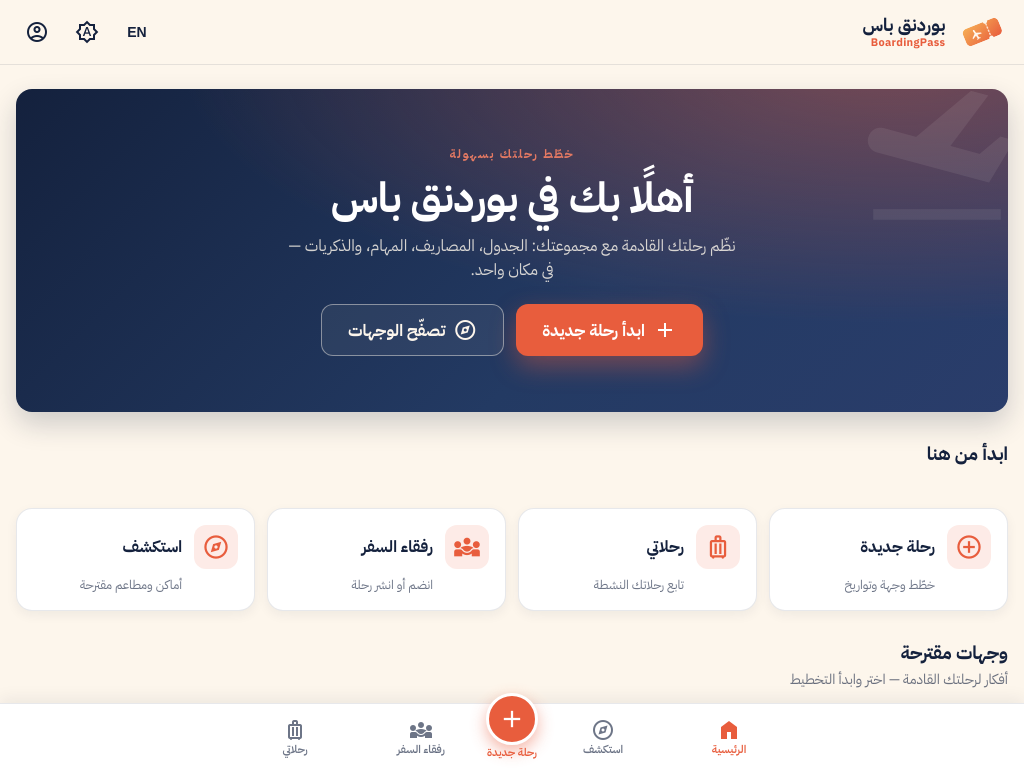
Test case: US-001 Authentication › routes a NEW email to the registration step
The width and height of the screenshot is (1024, 768).
Click the button named "الحساب / تسجيل الدخول".
click(37, 32)  # box [16,11,58,53]
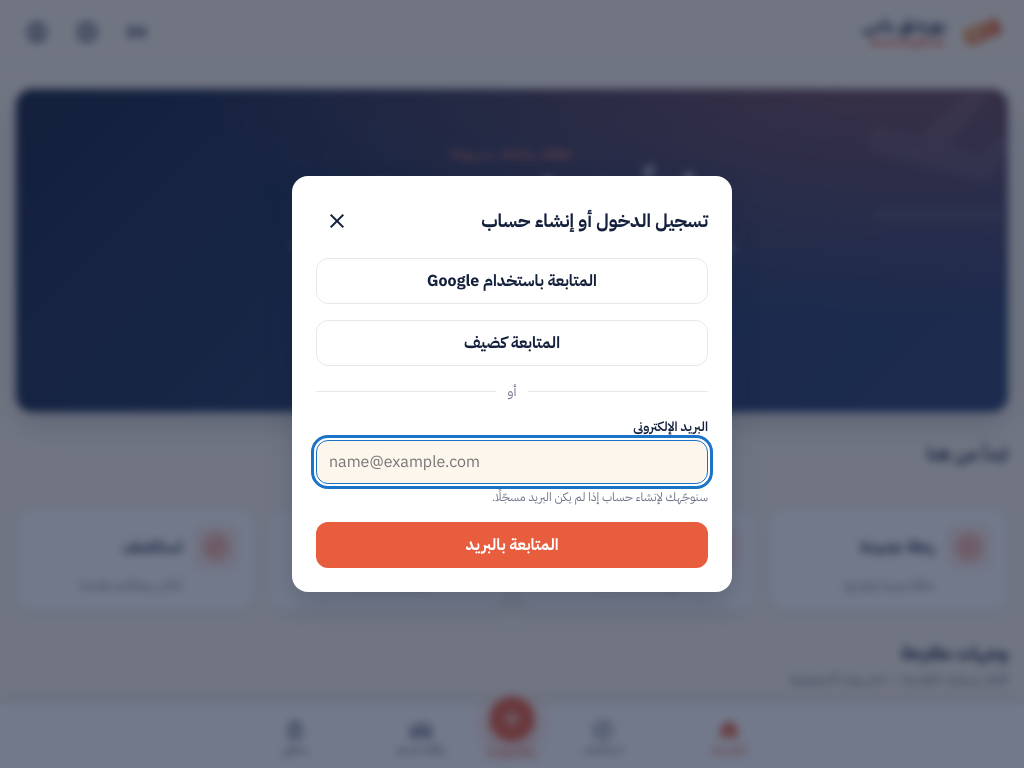
Type "new.person@example.com" into the field labelled "البريد الإلكتروني".
click(512, 462); type("new.person@example.com")  # box [316,440,708,484]
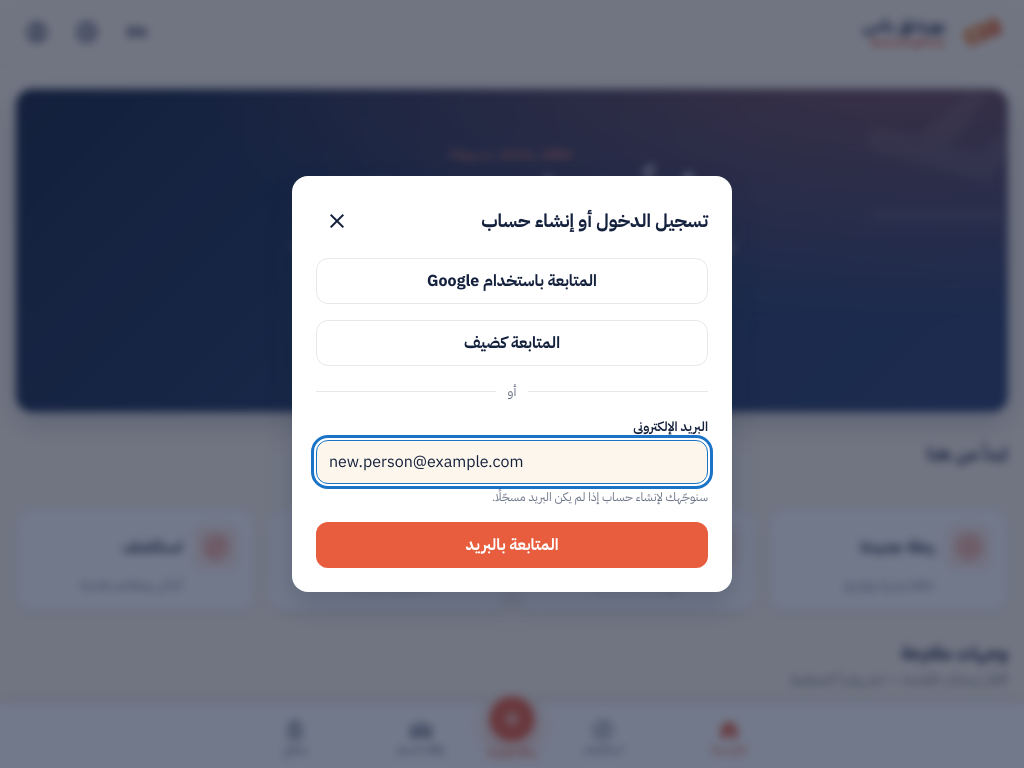
Click the button "المتابعة بالبريد".
click(512, 545)  # box [316,522,708,568]
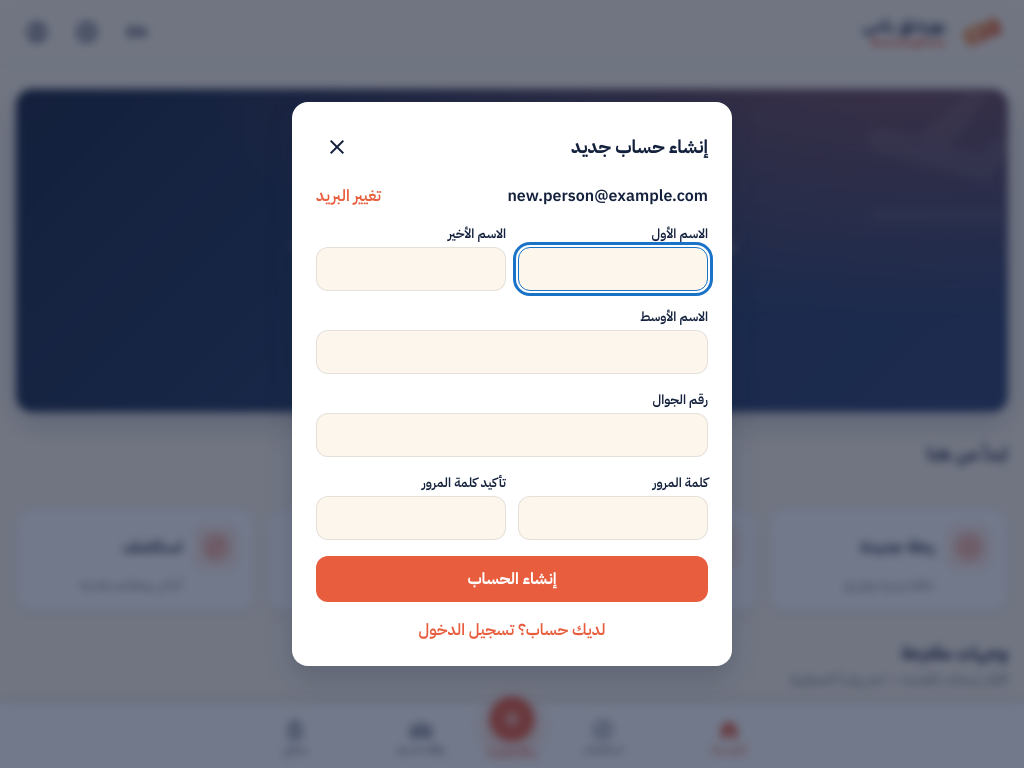
Expected: the field labelled "الاسم الأول" is shown, [518,247,708,291]
